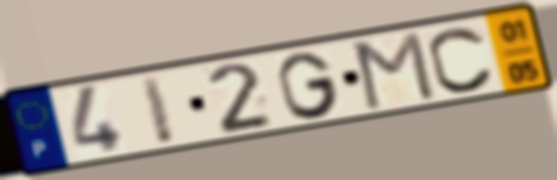2: (205, 61, 278, 137)
4: (71, 82, 126, 159)
C: (426, 24, 498, 96)
G: (274, 49, 343, 121)
I: (137, 72, 180, 149)
M: (351, 28, 440, 113)
